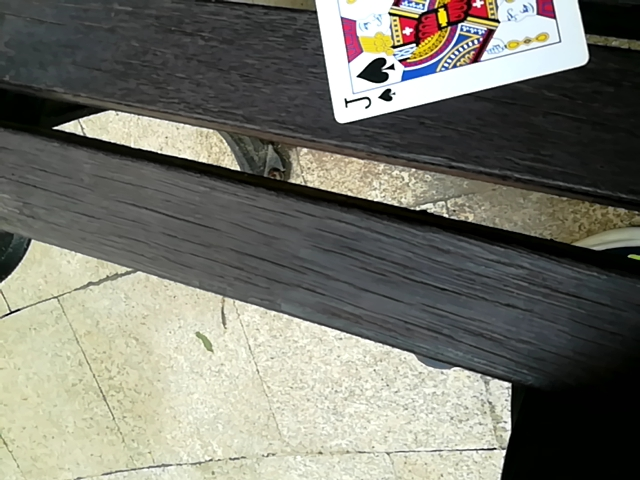ht j: (304, 0, 592, 122)
